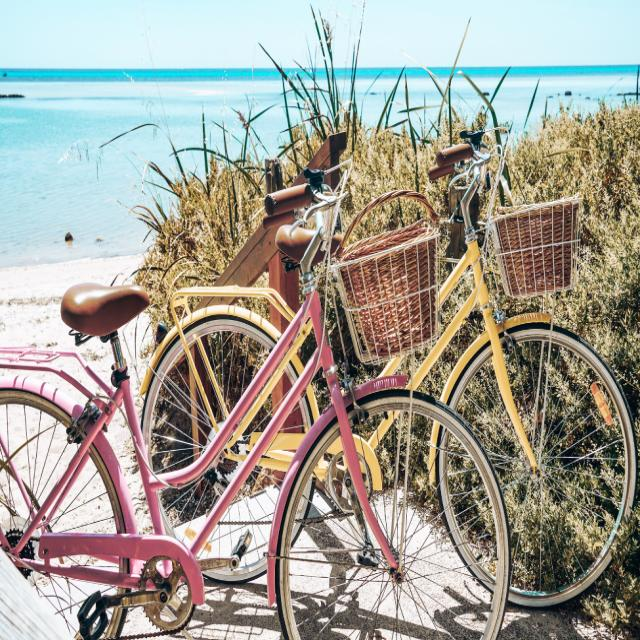urban-bike: (0, 158, 509, 640), (142, 126, 636, 604)
